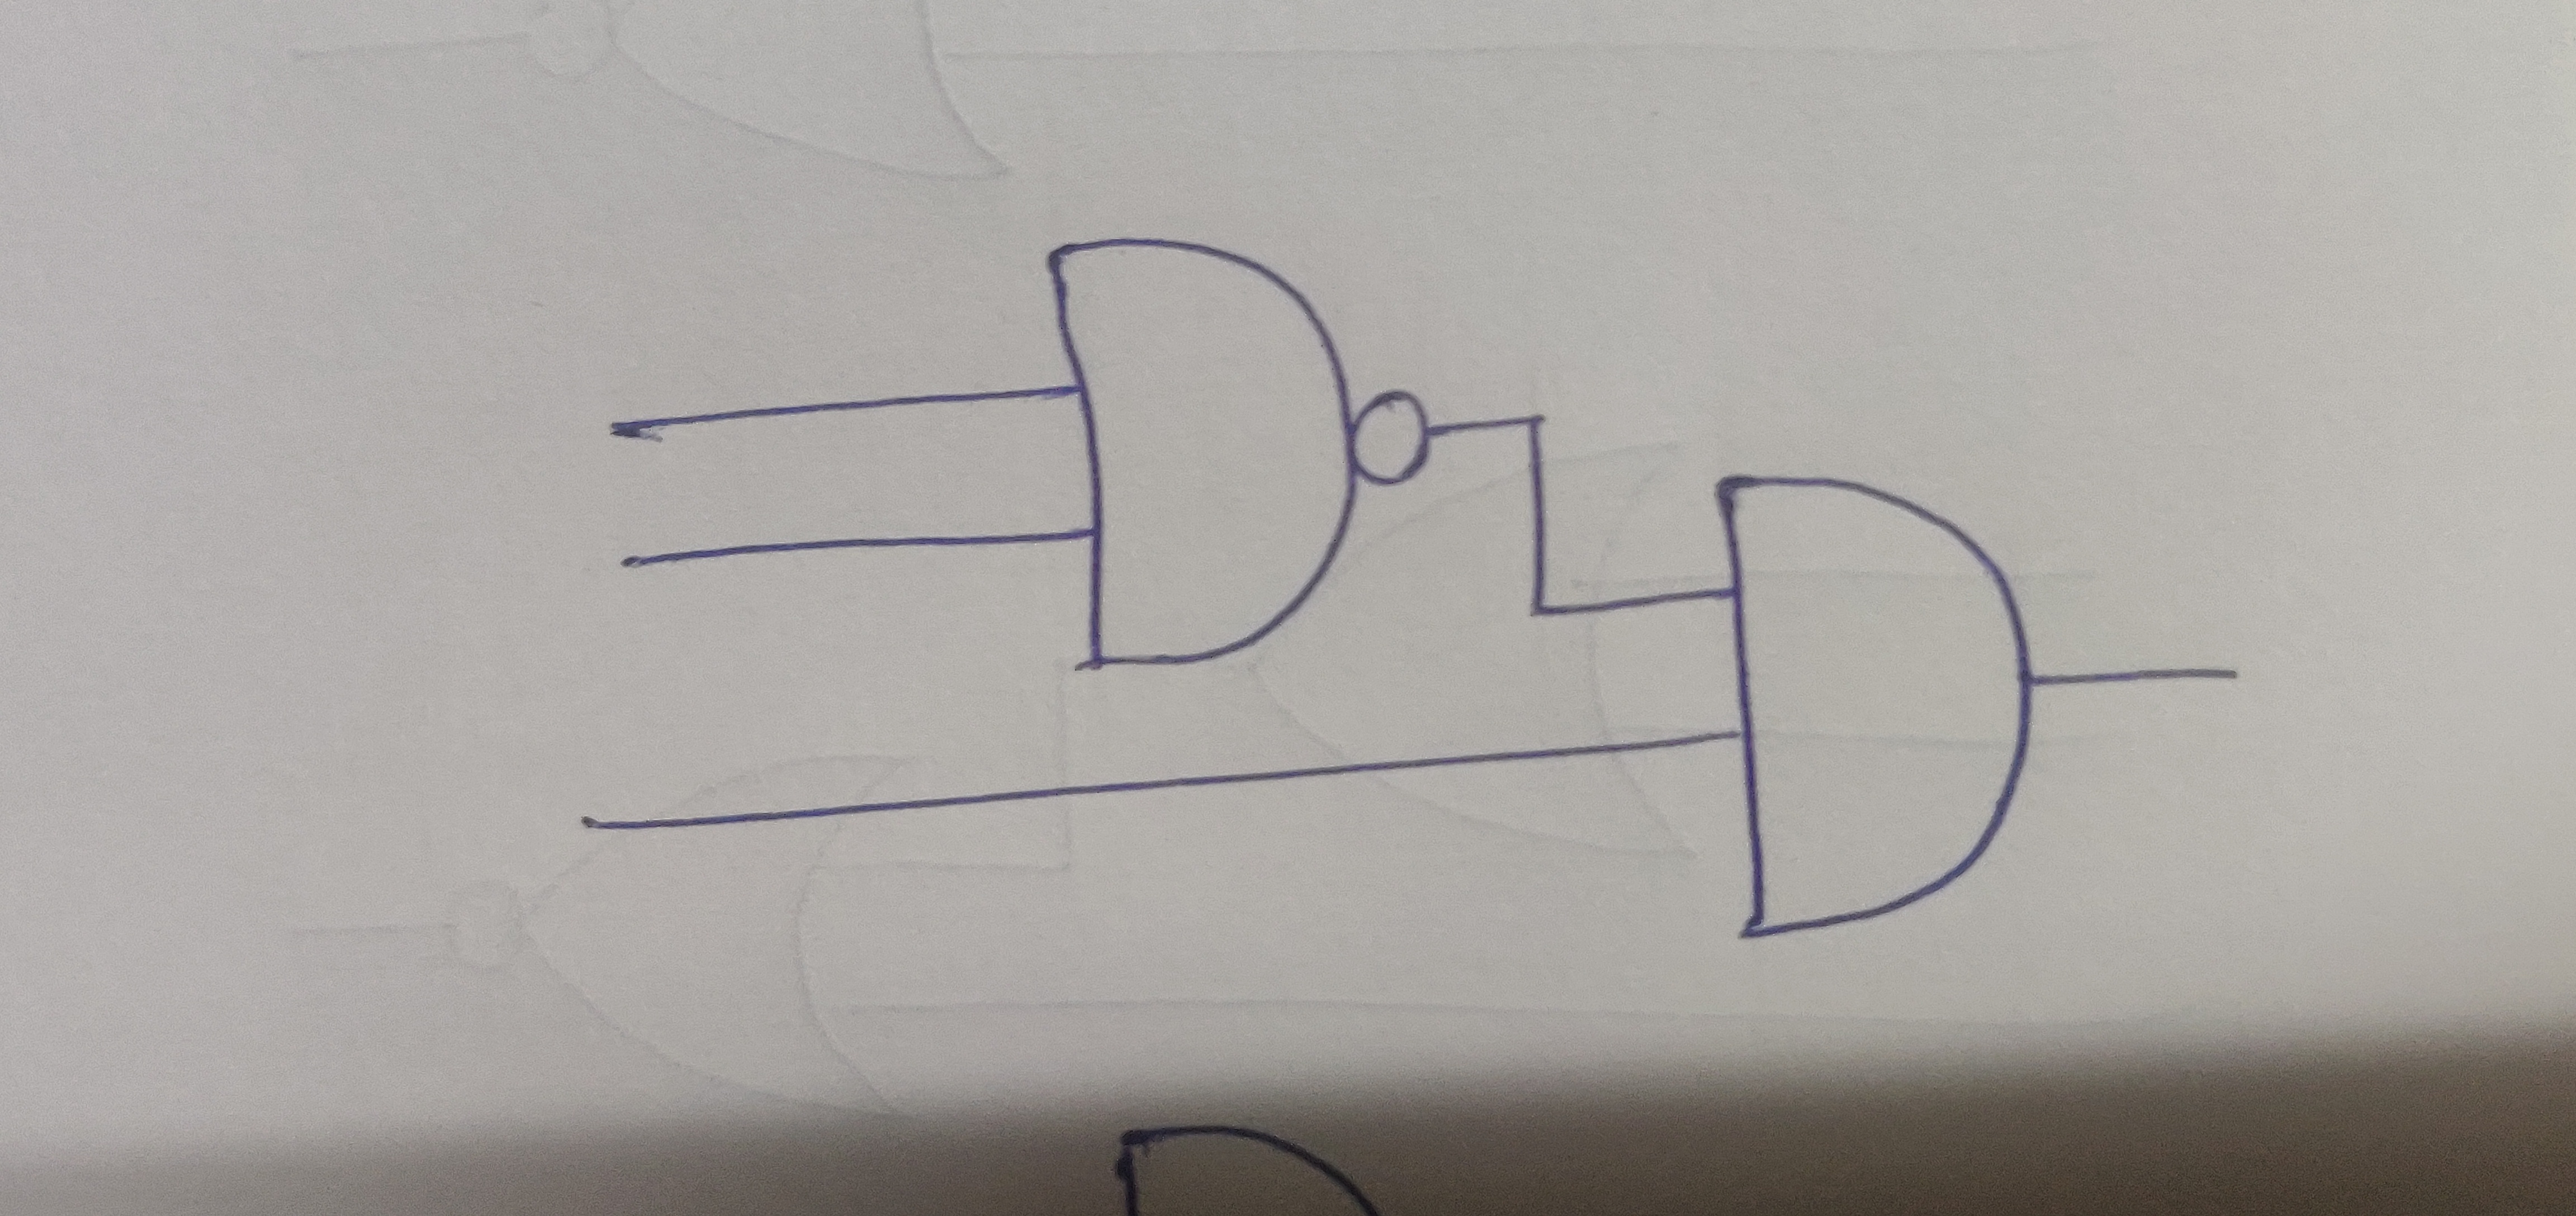and: (1712, 463, 2037, 930), (1048, 237, 1357, 670)
not: (1357, 388, 1436, 493)
